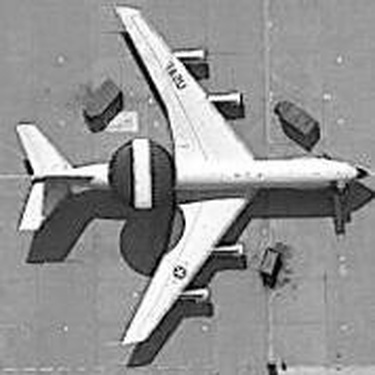airplane: (11, 2, 365, 363)
